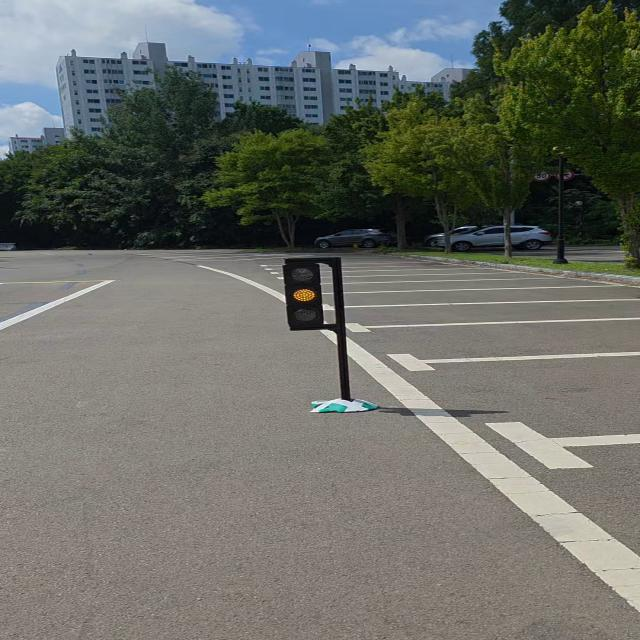yellow: (278, 255, 328, 335)
